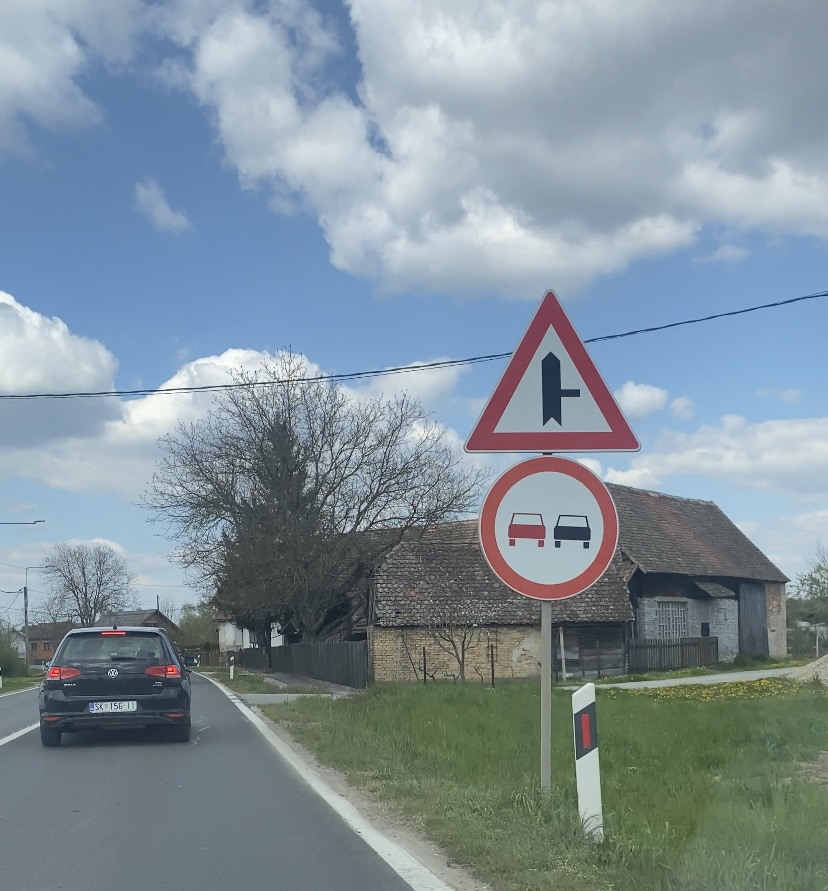Zabrana pretjecanja: (479, 456, 620, 600)
